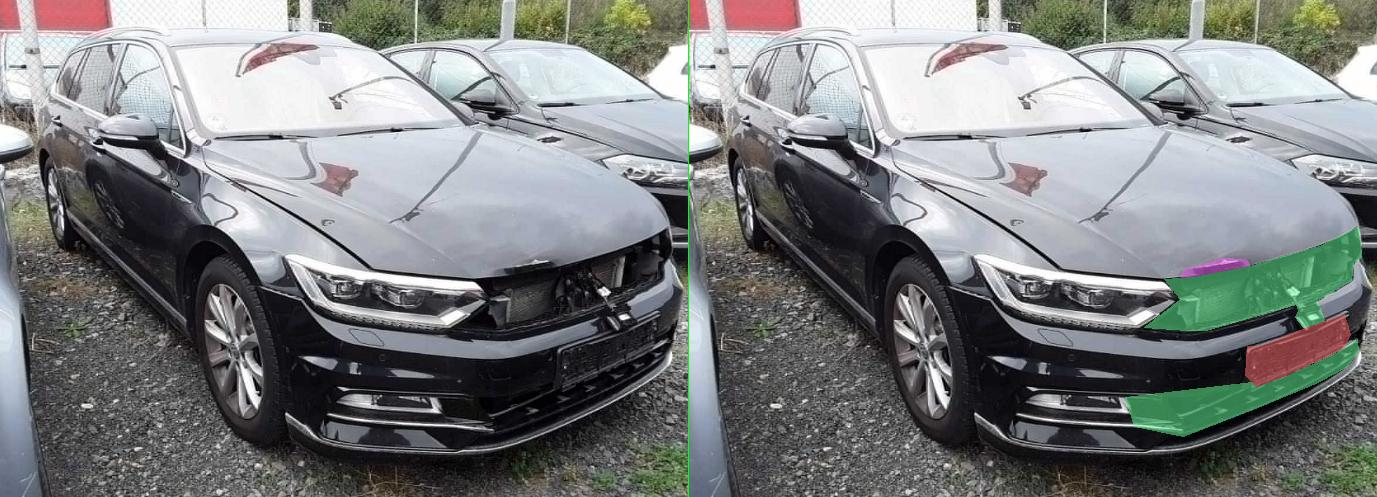Broken part: (911, 227, 1345, 333), (873, 339, 1339, 436)
Dent: (985, 258, 1123, 277)
Missing part: (1113, 314, 1323, 386)
Paint chip: (1031, 258, 1099, 268)
